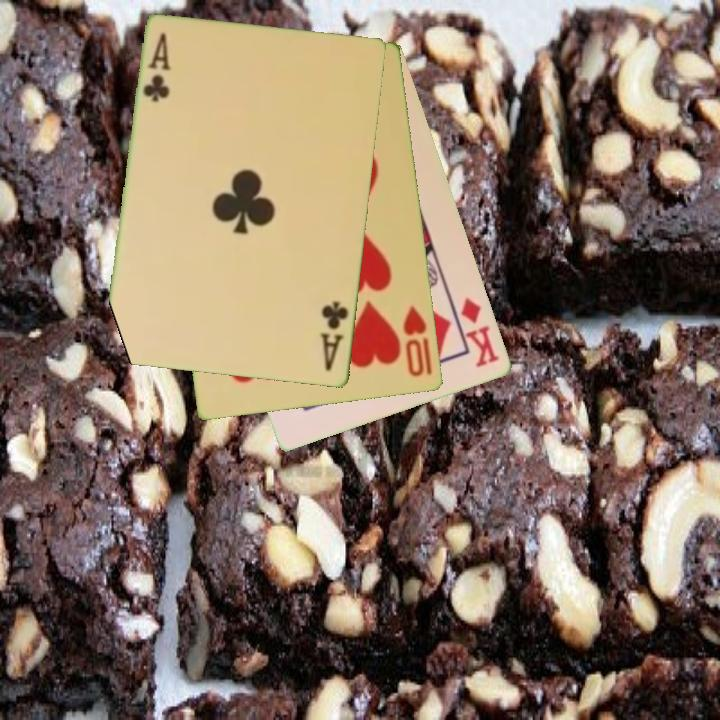10h: (400, 303, 436, 380)
Ac: (316, 297, 351, 374), (139, 29, 173, 106)
Kd: (449, 294, 503, 371)
